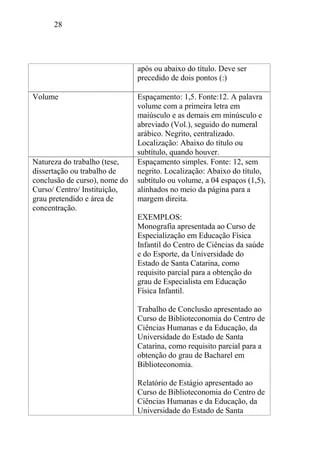Texto: (23, 51, 277, 419)
